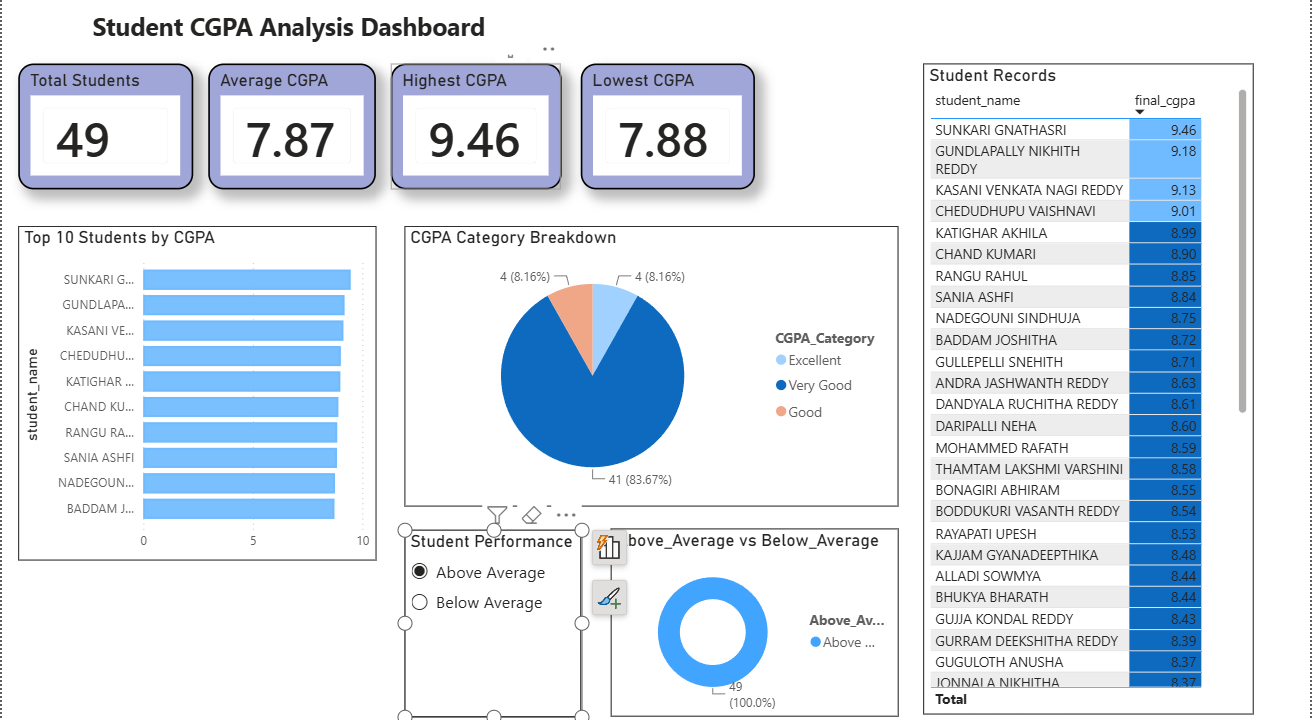

Layout of this report page (visuals, bound fields, positions):
{"tool":"powerbi","page":{"name":"Page 1","canvas":[1280,720],"ordinal":0},"visuals":[{"type":"tableEx","title":"Student Records","fields":{"Values":["AIML.Column3","AIML.final_cgpa"]},"box":[901.4,71.4,322.9,637.1],"z":0},{"type":"pieChart","title":"CGPA Category Breakdown","fields":{"Y":["AIML.total_students"],"Category":["AIML.CGPA_Category"]},"box":[394.3,230,482.9,274.3],"z":1000},{"type":"donutChart","title":"Above_Average vs Below_Average","fields":{"Y":["AIML.total_students"],"Category":["AIML.Above_Average"]},"box":[595.7,525.7,281.4,184.3],"z":2000},{"type":"listSlicer","title":"Student Performance","fields":{"Values":["AIML.Above_Average"]},"box":[394.3,527.1,172.9,182.9],"z":3000},{"type":"clusteredBarChart","title":"Top 10 Students by CGPA","fields":{"Category":["AIML.student_name"],"Y":["Sum(AIML.final_cgpa)"]},"box":[15.7,230,350,327.1],"z":4000},{"type":"cardVisual","title":"Total Students","fields":{"Data":["AIML.total_students"]},"box":[15.7,71.4,171.4,122.9],"z":5000},{"type":"cardVisual","title":"Average CGPA","fields":{"Data":["AIML.Average_CGPA"]},"box":[201.4,71.4,164.3,122.9],"z":6000},{"type":"cardVisual","title":"Highest CGPA","fields":{"Data":["AIML.highest_cgpa"]},"box":[380,71.4,167.1,122.9],"z":7000},{"type":"cardVisual","title":"Lowest CGPA","fields":{"Data":["AIML.lowest_cgpa"]},"box":[565.7,71.4,170,122.9],"z":8000},{"type":"textbox","box":[34.2,13.5,492.8,48.9],"z":9000}]}

Visuals, with their boxes in screenshot pixels (x1, y1, x2, y2), scaled from the page's 1280x720 canvas onto the 1312x720 screenshot:
"Student Records" tableEx: box(924, 71, 1255, 708)
"CGPA Category Breakdown" pieChart: box(404, 230, 899, 504)
"Above_Average vs Below_Average" donutChart: box(611, 526, 899, 710)
"Student Performance" listSlicer: box(404, 527, 581, 710)
"Top 10 Students by CGPA" clusteredBarChart: box(16, 230, 375, 557)
"Total Students" cardVisual: box(16, 71, 192, 194)
"Average CGPA" cardVisual: box(206, 71, 375, 194)
"Highest CGPA" cardVisual: box(389, 71, 561, 194)
"Lowest CGPA" cardVisual: box(580, 71, 754, 194)
textbox: box(35, 14, 540, 62)
